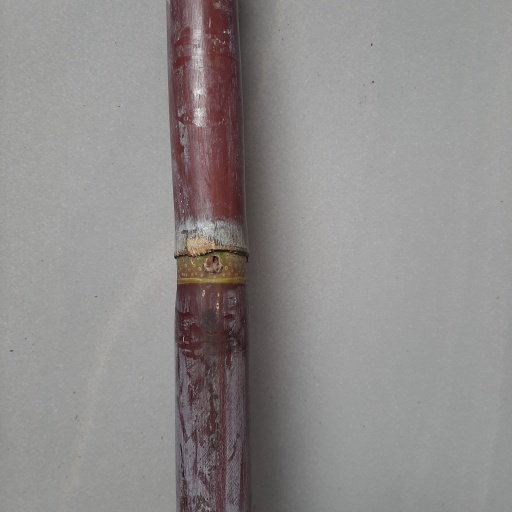Damage_Bud: (203, 254, 223, 276)
